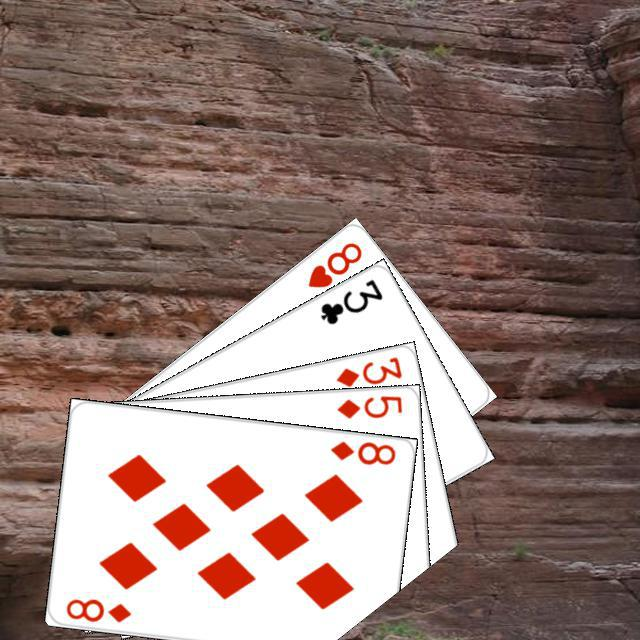3c: (315, 274, 385, 327)
3d: (331, 352, 404, 389)
5d: (332, 390, 404, 420)
8d: (61, 593, 132, 625), (326, 436, 397, 467)
8h: (303, 237, 364, 290)
